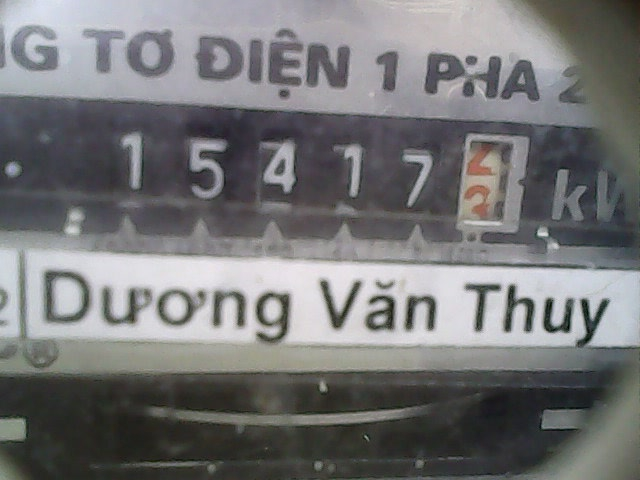phy_plate: (95, 99, 542, 249)
